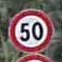limite 50: (7, 7, 53, 52)
